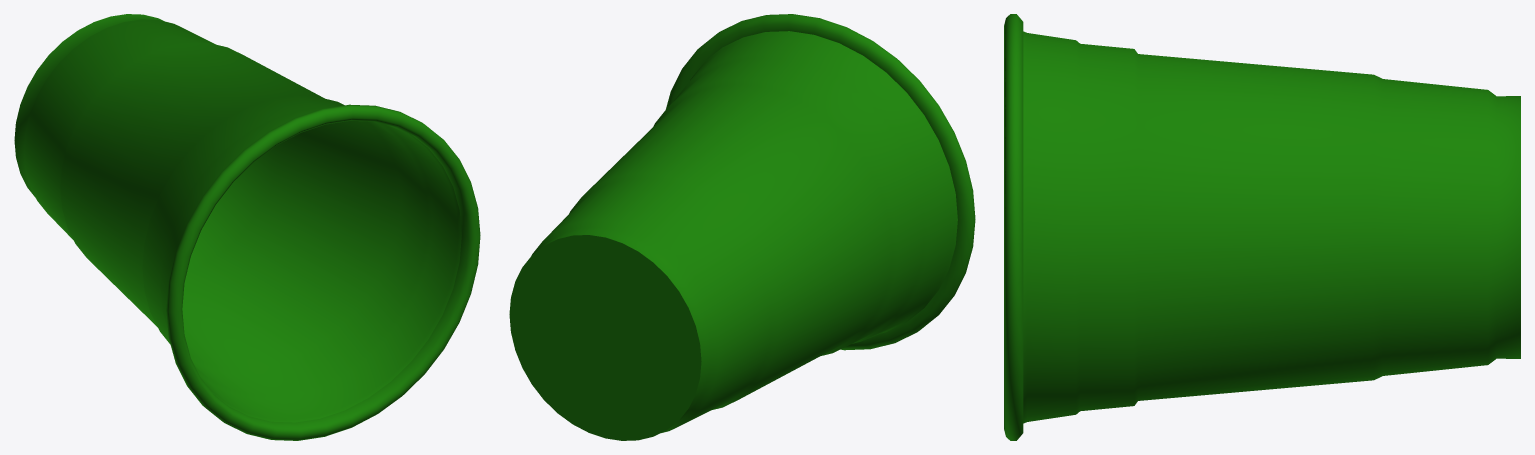
The picture shows the model from 3 angles, left to right: view 1: azimuth 30°, elevation 25°; view 2: azimuth 150°, elevation 25°; view 3: azimuth 270°, elevation 25°; orthographic projection. The views are drawn at different scales.
Size of the model in its own units: 0.8293 by 0.8293 by 1.
